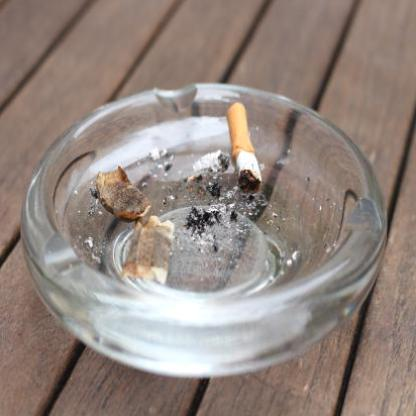cigarette: (226, 101, 264, 198)
